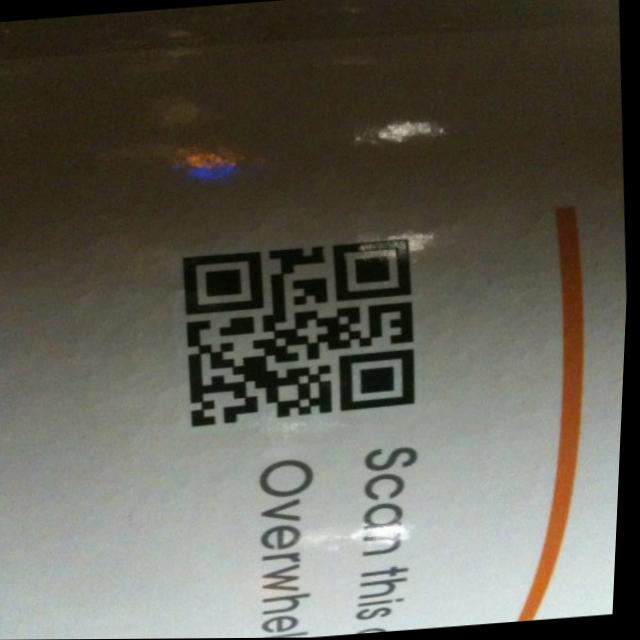qrcode: (180, 240, 425, 428)
